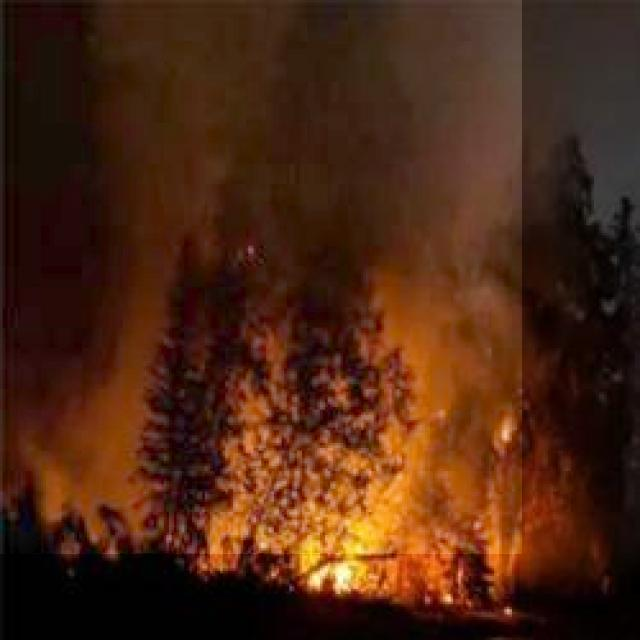Fire: (294, 512, 368, 591)
Smoke: (0, 0, 522, 554)
